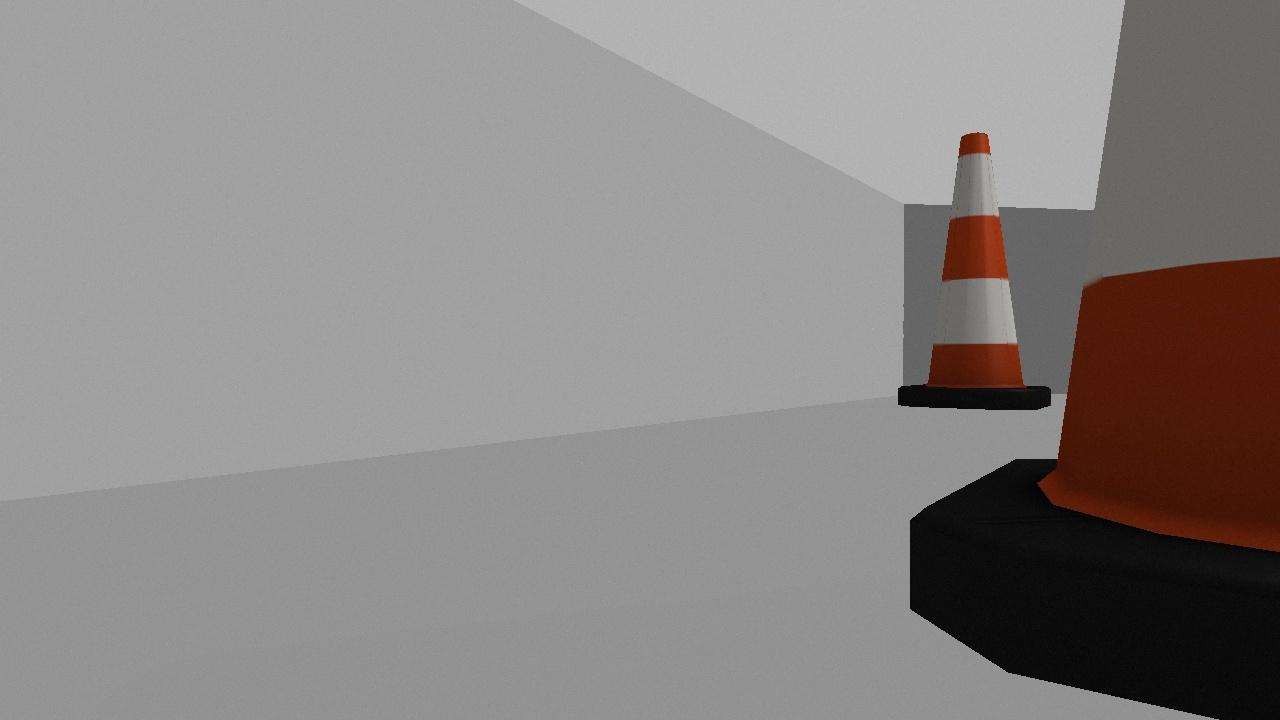cone_barrel: (894, 132, 1049, 409)
